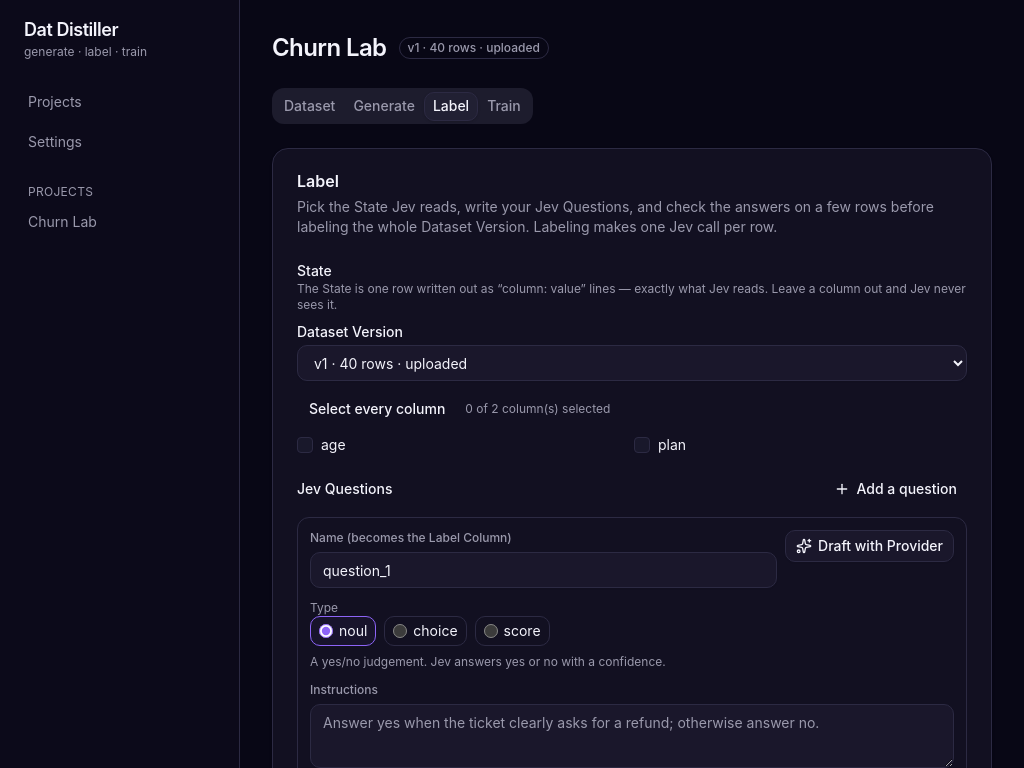
Test case: Label step — building questions by hand › builds a Noul by hand and previews it
The width and height of the screenshot is (1024, 768).
Replace the text in the field labelled "Name (becomes the Label Column)" with "is_churn" at [544, 570], box [310,552,777,588]
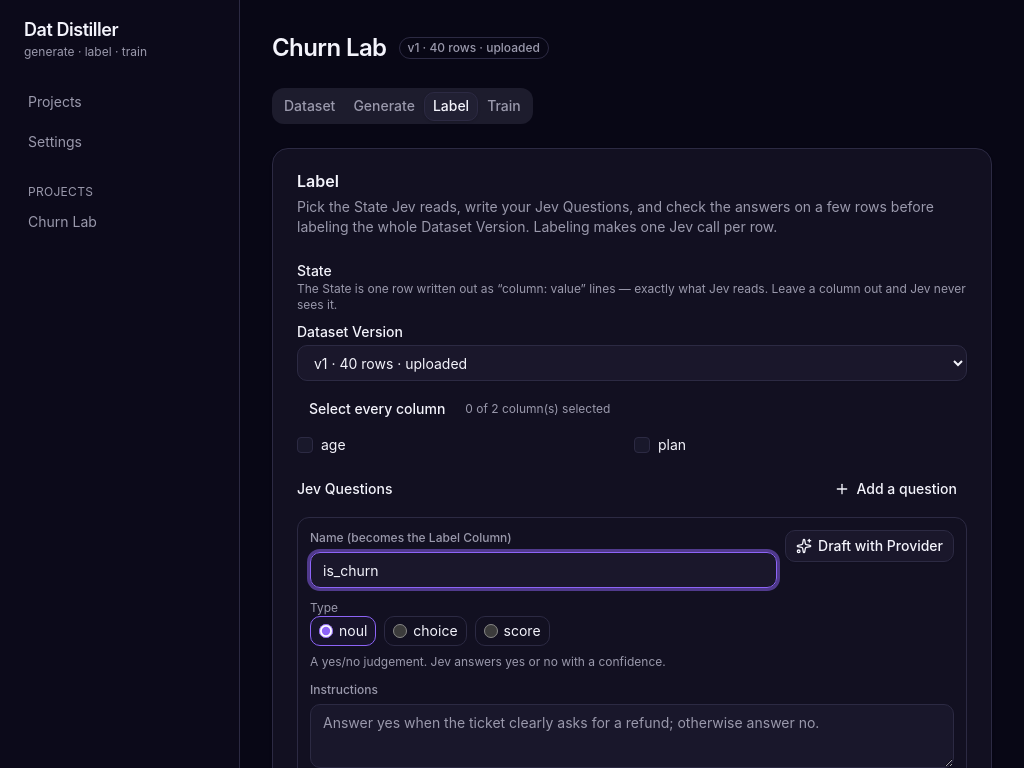
Type "Answer yes when the customer cancelled within 30 days." into the text box labelled "Instructions" at [632, 736], box [310,704,954,767]
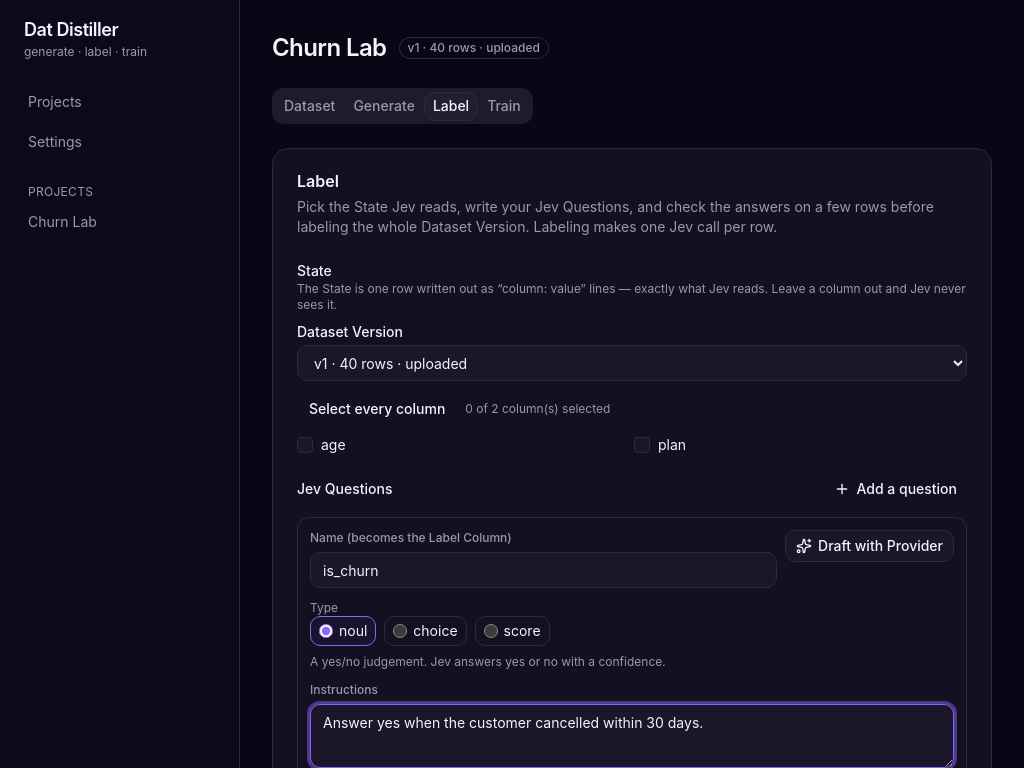
Click the button "Select every column" at [377, 409], box [297,393,457,425]
(page scrolled)
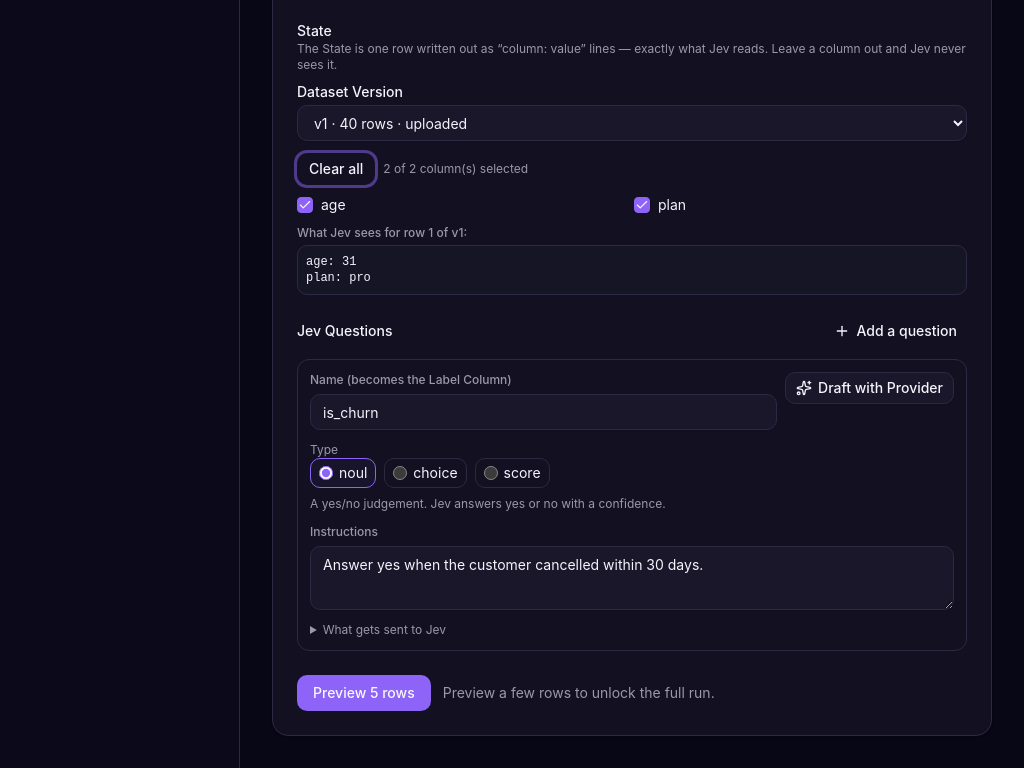
Click the button "Preview 5 rows" at [364, 693], box [297,675,431,711]
(page scrolled)
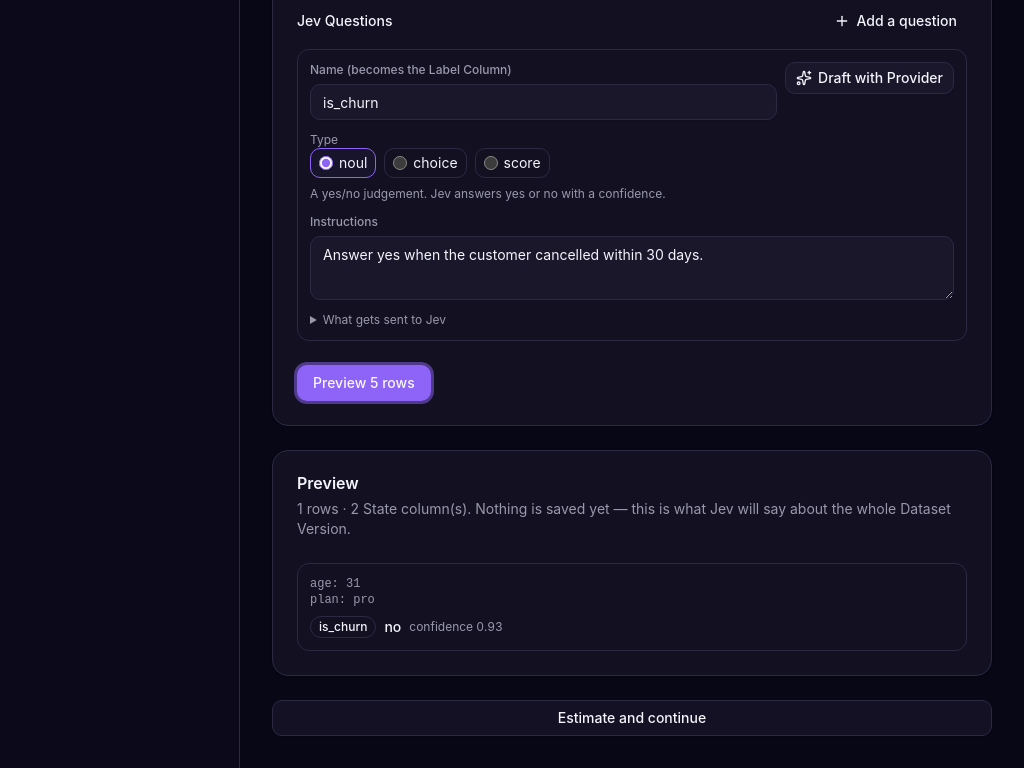
Result: the text "is_churn" is shown at [310,616,376,638]
Result: the text "confidence 0.93" is shown at [409,619,503,635]
